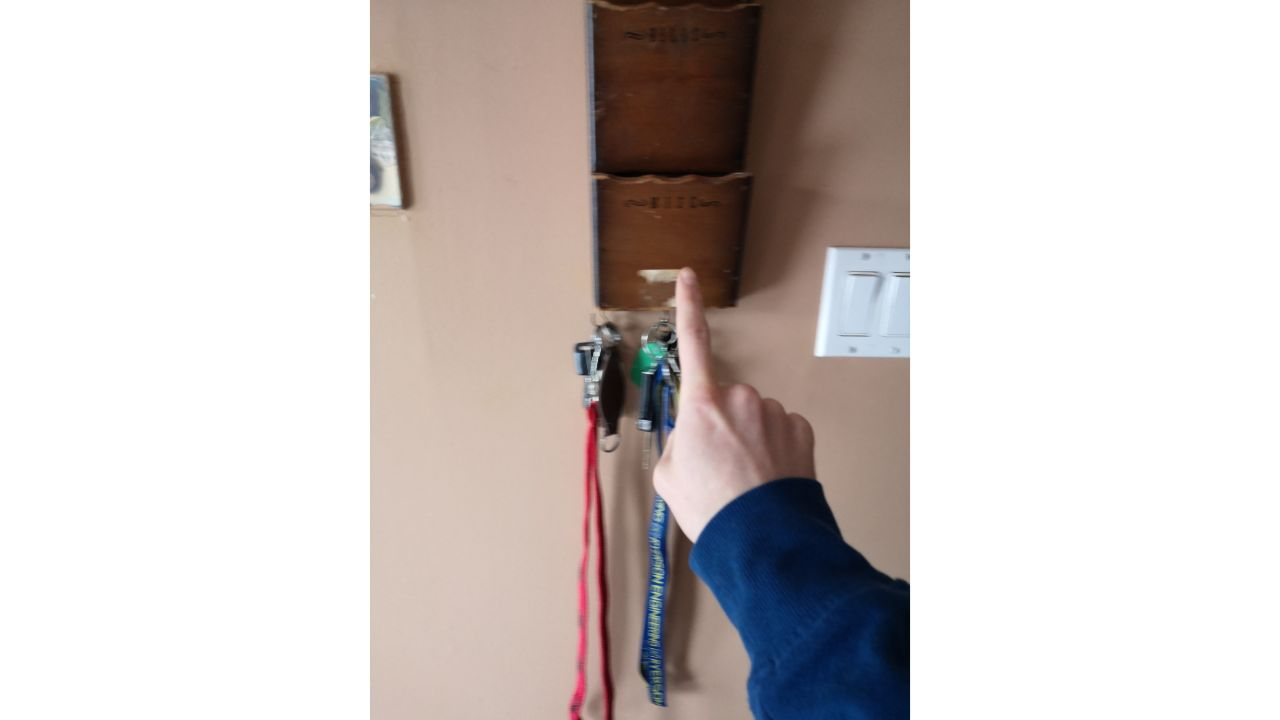finger: (651, 272, 830, 561)
